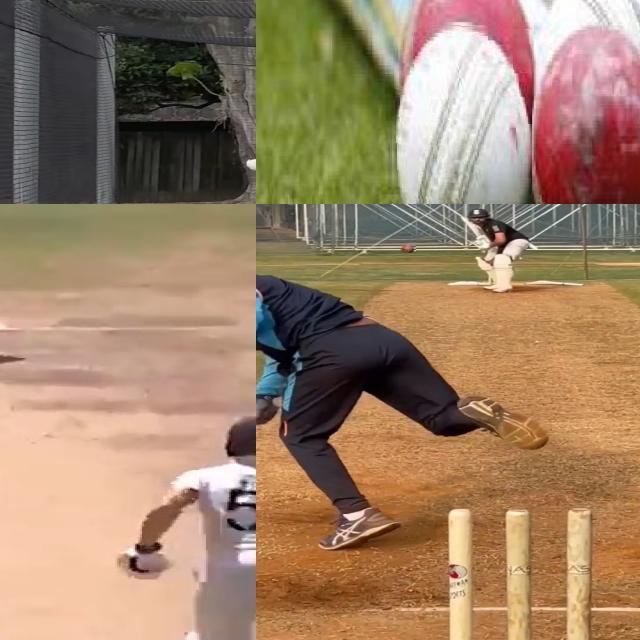Cricket ball: (384, 21, 532, 204), (531, 24, 640, 204), (240, 154, 256, 172), (399, 244, 416, 253)
Stumps: (444, 504, 595, 640)
